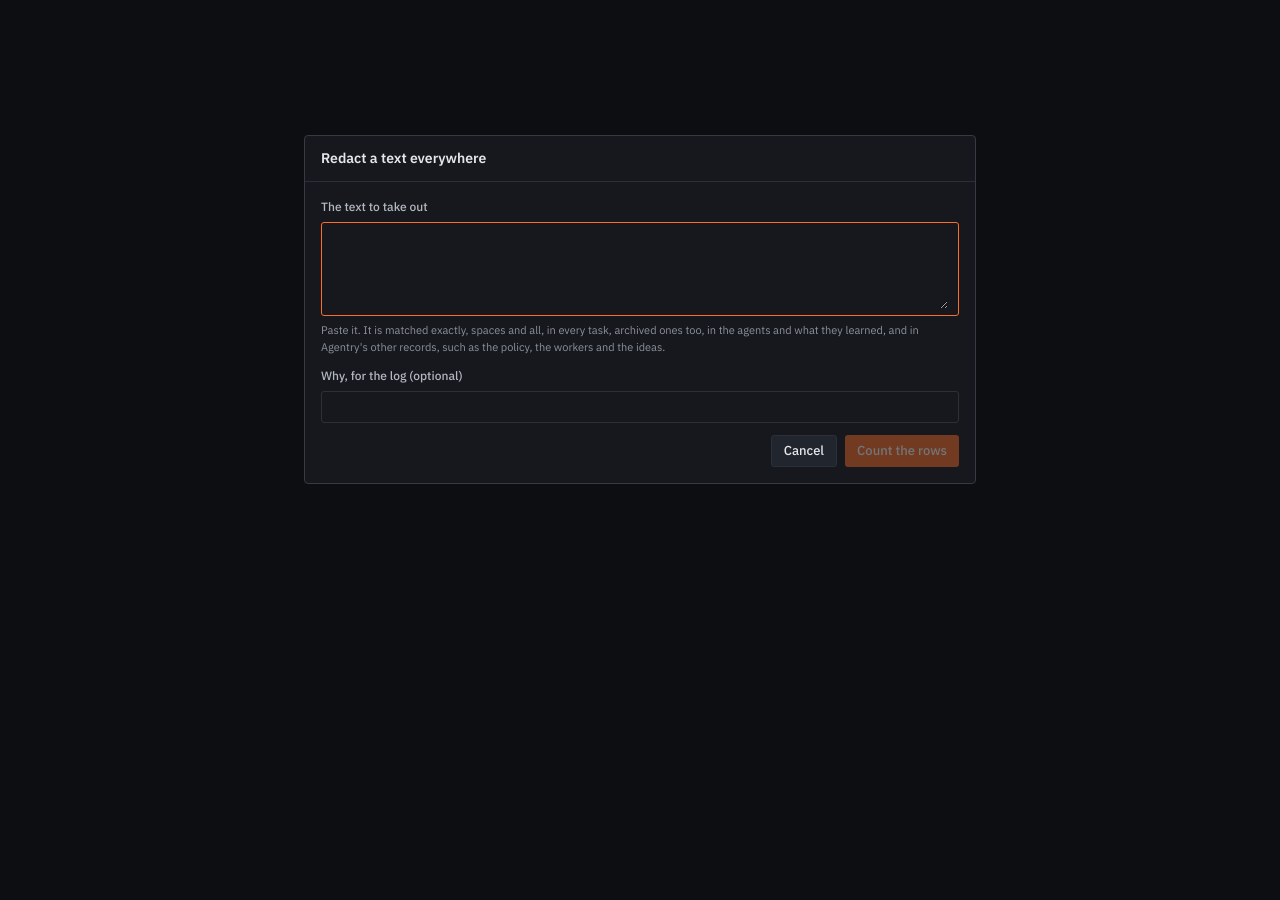
Scenario: RedactLog › a preview refused shows the reason with the text kept
Type "sk-live-0123456789" into the text box labelled "The text to take out" at [640, 269], box [332,229,948,309]
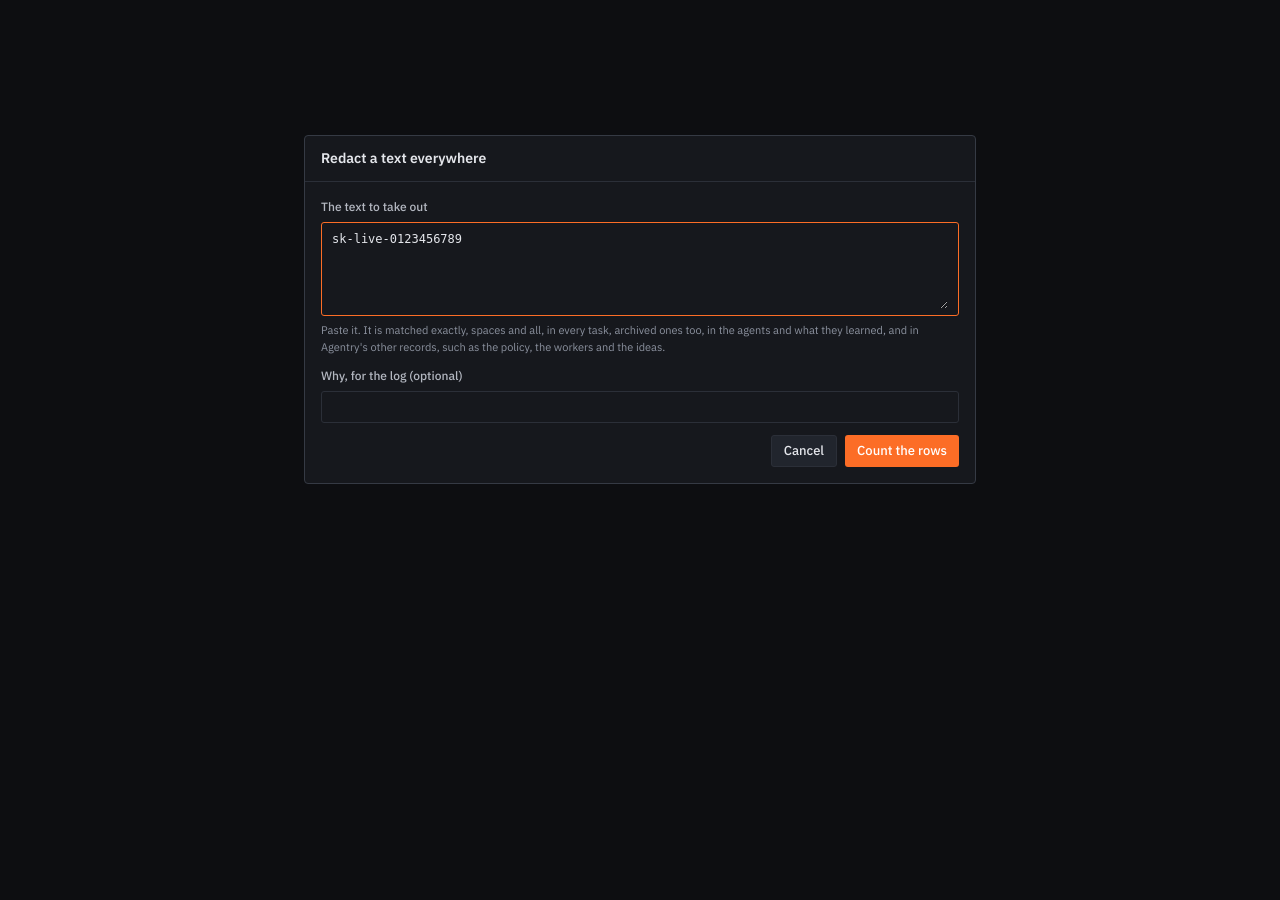
Type "pasted everywhere" into the field labelled "Why, for the log (optional)" at [640, 407], box [332,392,948,422]
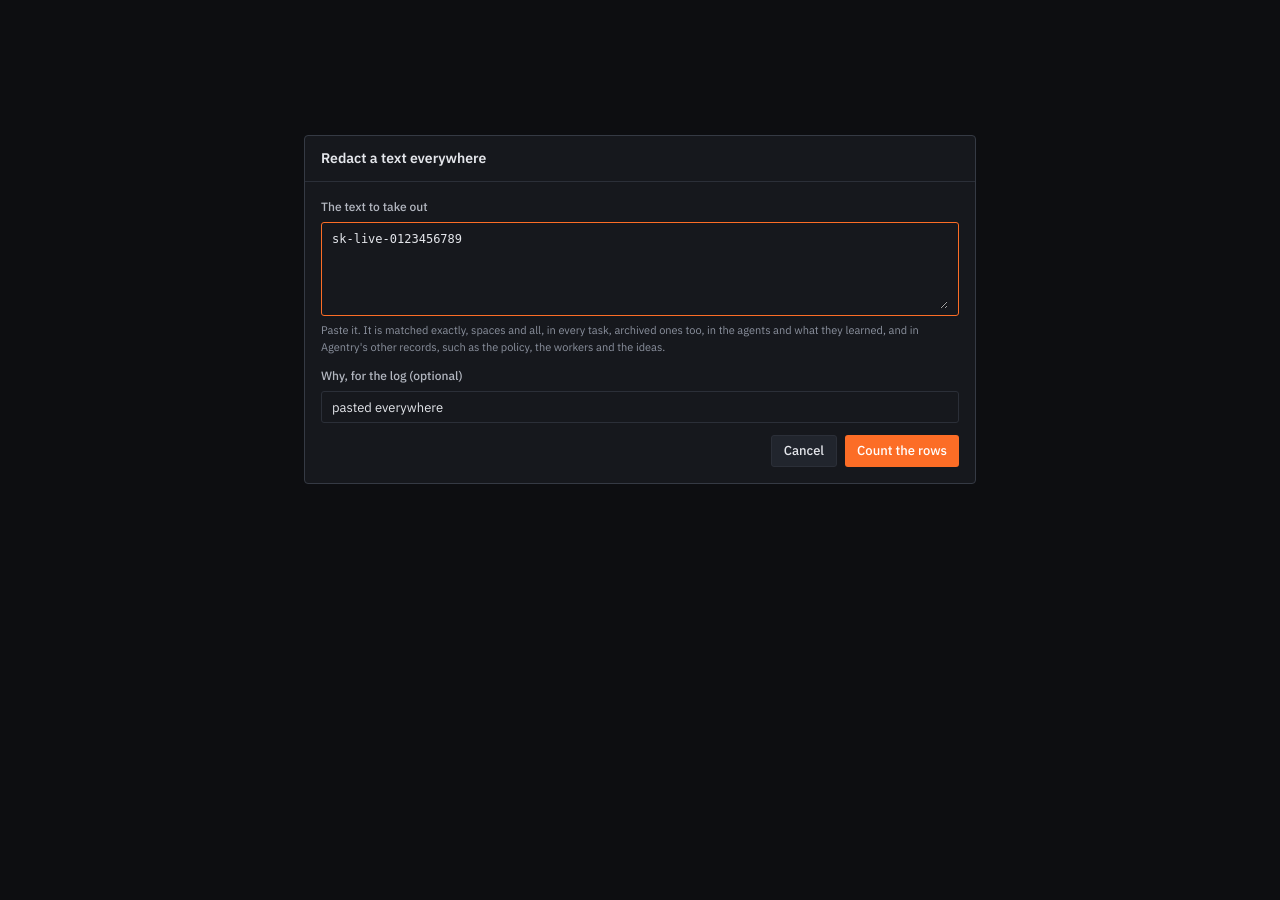
Click the button "Count the rows" at [902, 451], box [845,435,959,467]
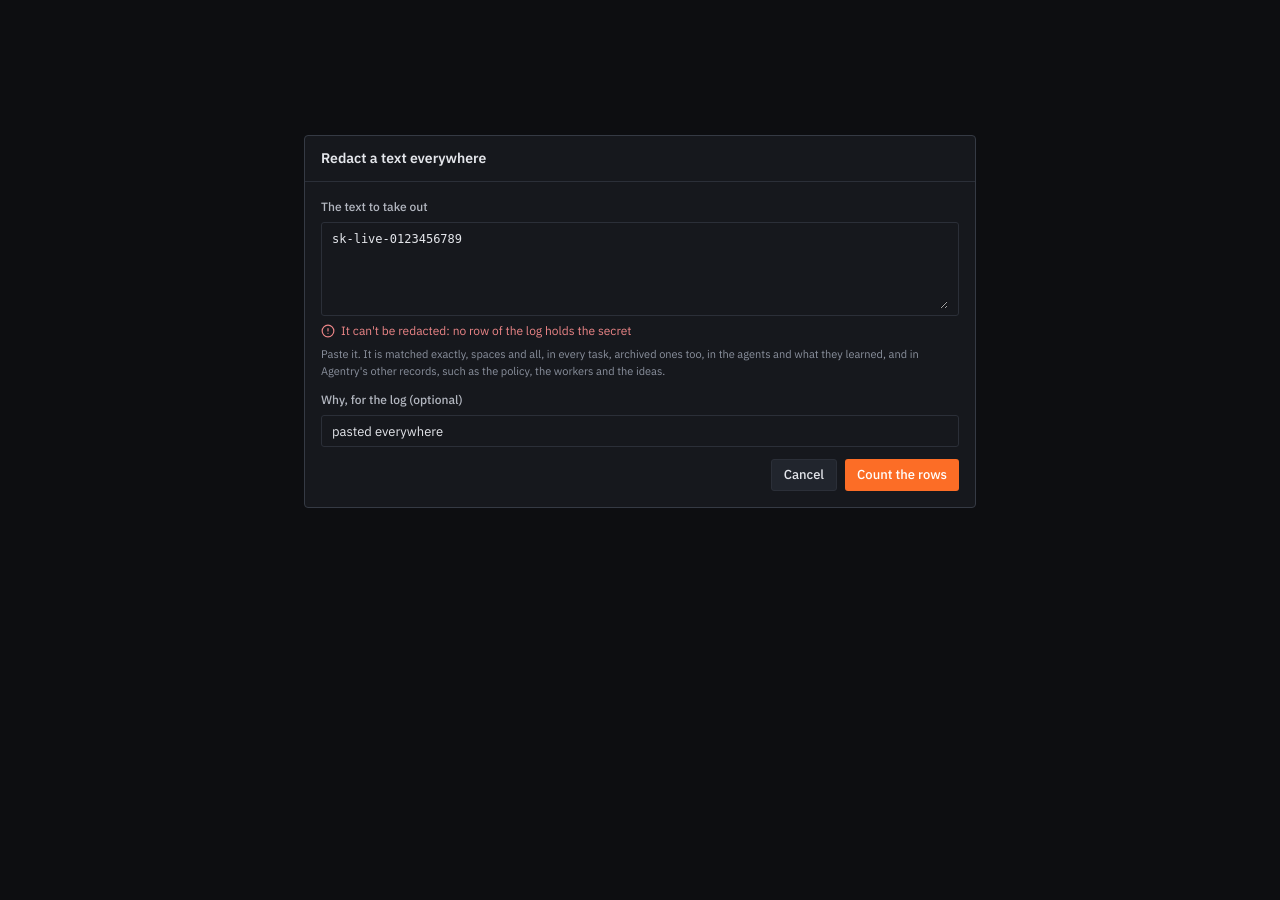
Expected: the text "It can't be redacted: no row of the log holds the secret" is shown, [341,322,632,340]
